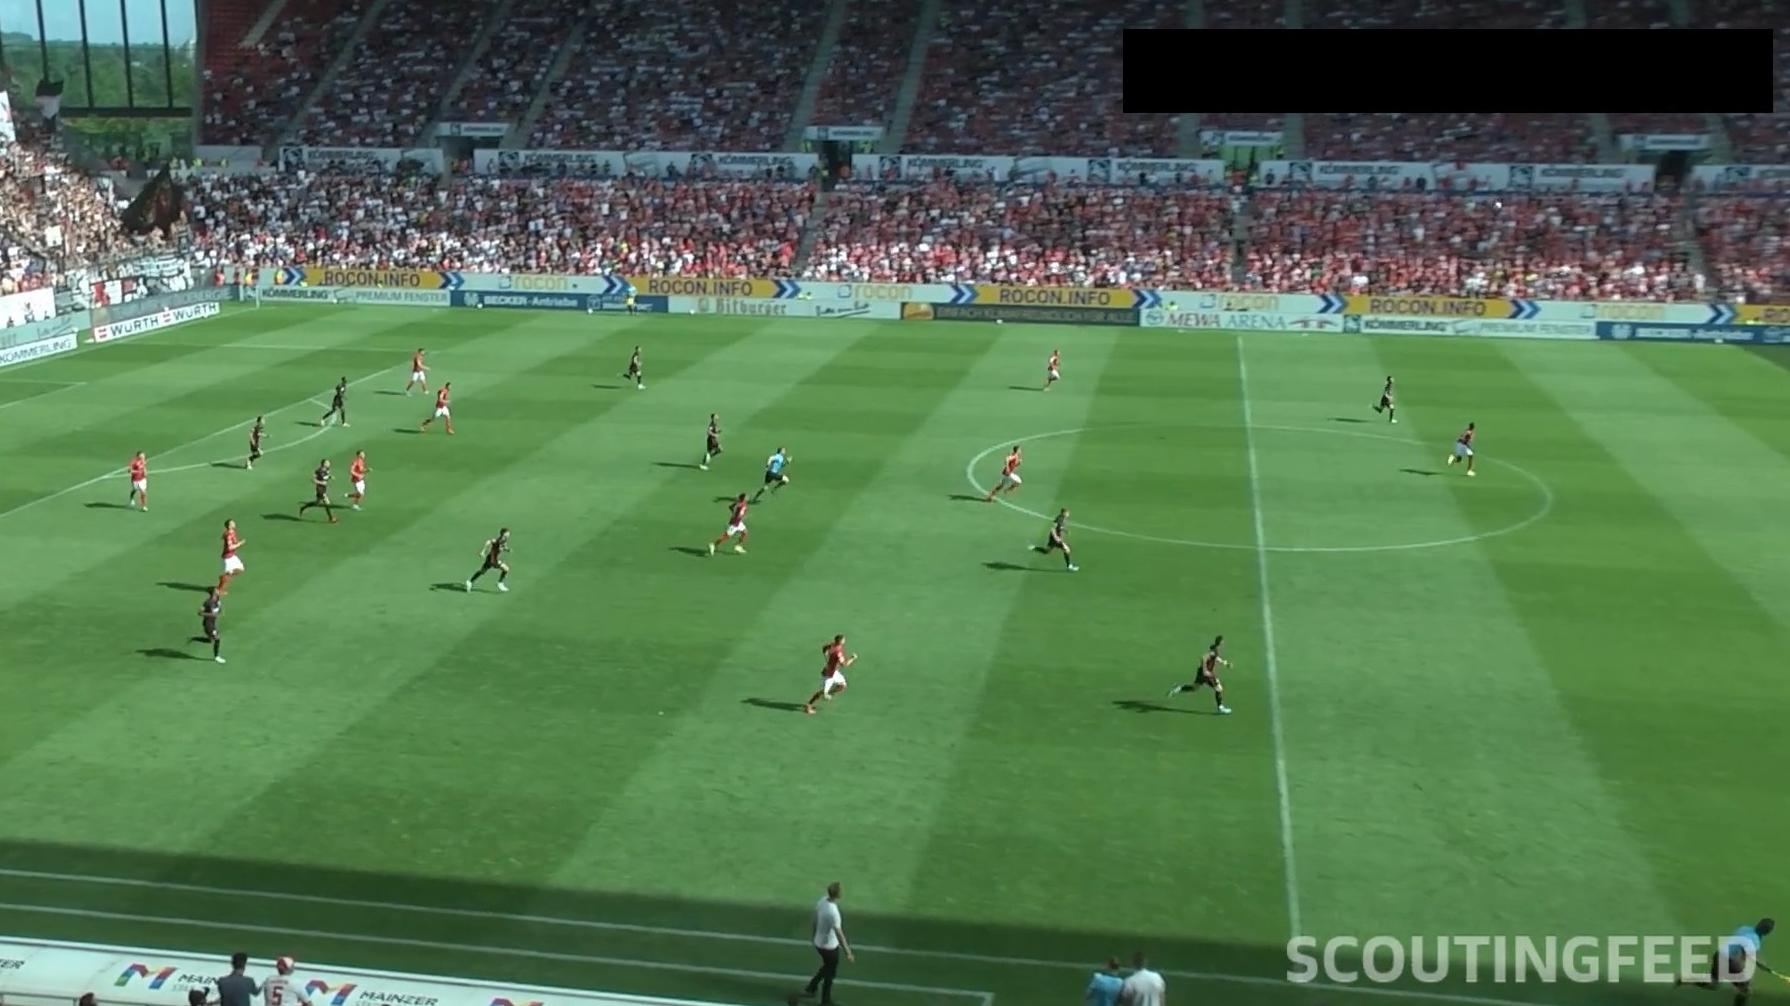ball: (1492, 200, 1502, 210)
